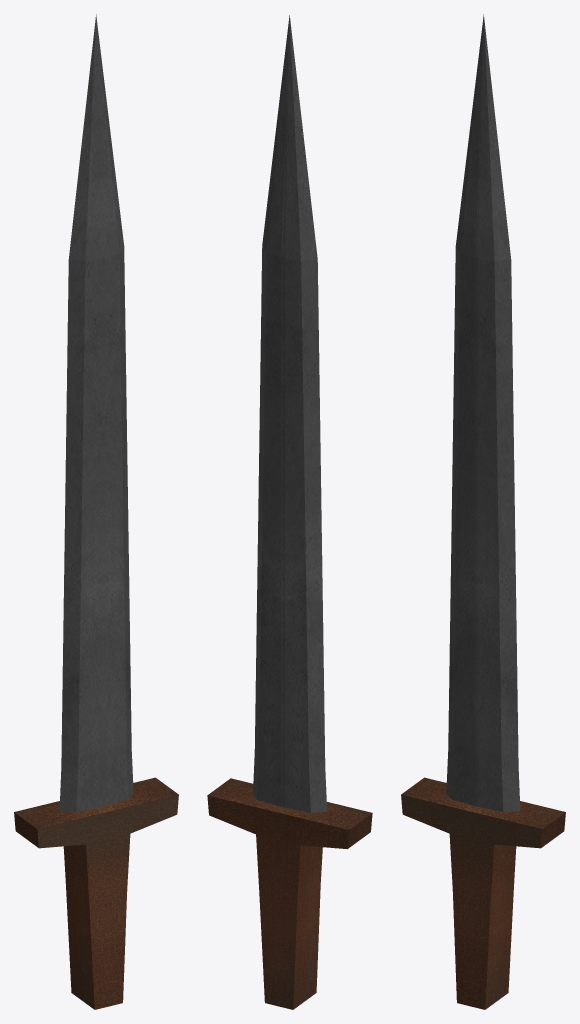
File: sword.glb
3 renders of one model, left to right at view 1: azimuth 30°, elevation 25°; view 2: azimuth 150°, elevation 25°; view 3: azimuth 330°, elevation 25°, orthographic.
Visible parts, largest first — view 1: Cube; view 2: Cube; view 3: Cube.
Boxes of the visible parts, <box> form: Cube: <box>14,14,178,1009</box>; Cube: <box>207,15,372,1009</box>; Cube: <box>401,14,565,1009</box>.
Bounding box in the file's own units: 0.1781 × 1.18 × 0.0525.
Materials: 1 (1 with a texture image).
